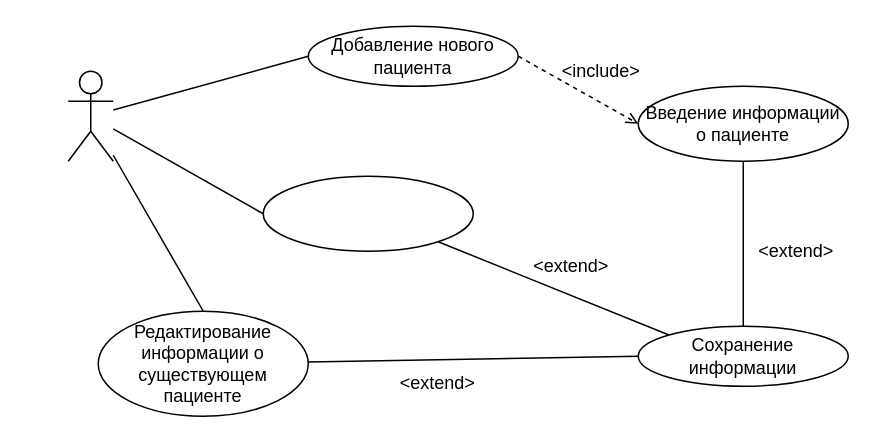
This 875x443 diagram has some shape labels left out. The box of each missing label's shape, as (x1, y1, x2, y2) in pixels:
Администратор: (67, 70, 113, 161)
Удаление существующего пациента: (262, 175, 473, 251)
